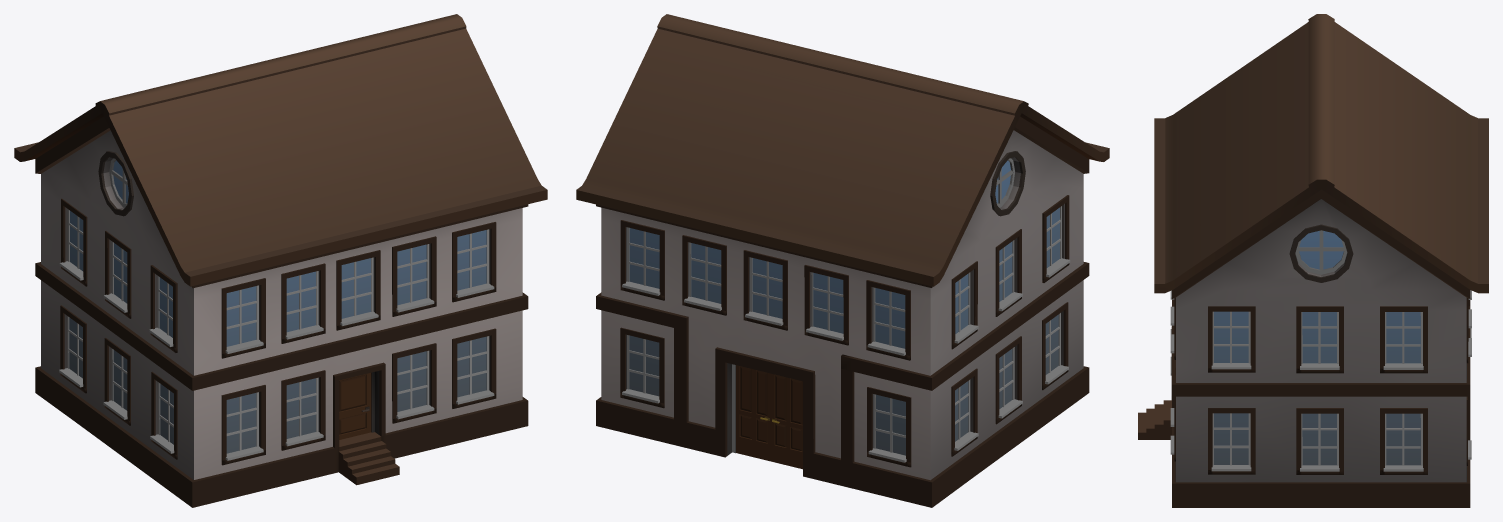
The model's file is Residential_Townhouse.glb.
3 renders of one model, left to right at view 1: azimuth 30°, elevation 25°; view 2: azimuth 150°, elevation 25°; view 3: azimuth 270°, elevation 25°, orthographic. The views are drawn at different scales.
Visible parts, largest first — view 1: base.122, windowRefl.093; view 2: base.122, windowRefl.093; view 3: base.122, windowRefl.093.
Part boxes in pixels (left/top/right/bottom): base.122: left=14, top=14, right=547, bottom=507; windowRefl.093: left=69, top=160, right=486, bottom=453; base.122: left=576, top=14, right=1109, bottom=507; windowRefl.093: left=629, top=160, right=1059, bottom=455; base.122: left=1138, top=14, right=1488, bottom=507; windowRefl.093: left=1214, top=231, right=1420, bottom=465.
Bounding box in the file's own units: 14.6 × 13.67 × 13.06.
